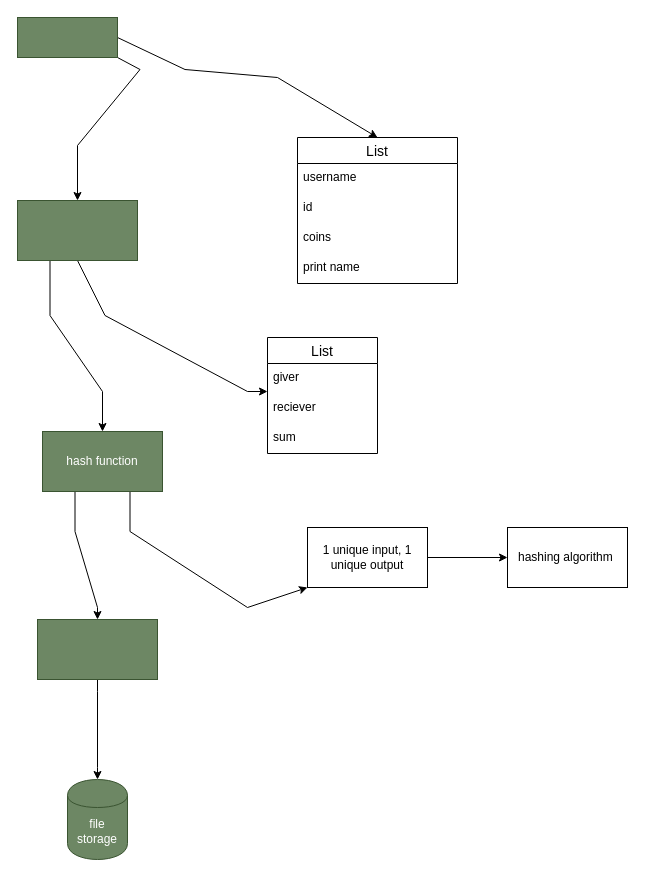
This 645x877 diagram has some shape labels left out. The centre of each missing label's shape, as x and y in pixels:
class: blockchain: the point at 97,649
class: transaction: the point at 77,230
class: user: the point at 67,37
